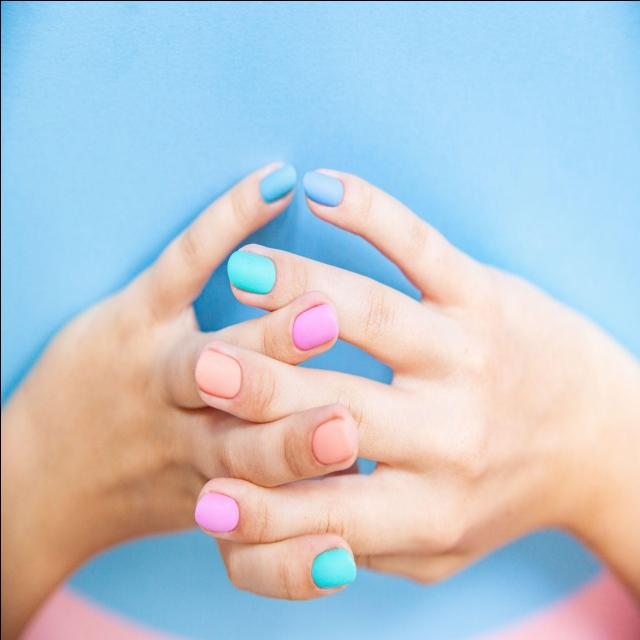Nail: (194, 348, 241, 398), (311, 415, 358, 464), (291, 302, 338, 349), (226, 249, 275, 293), (311, 547, 355, 589), (194, 493, 238, 531), (302, 169, 342, 205), (259, 163, 295, 201)
